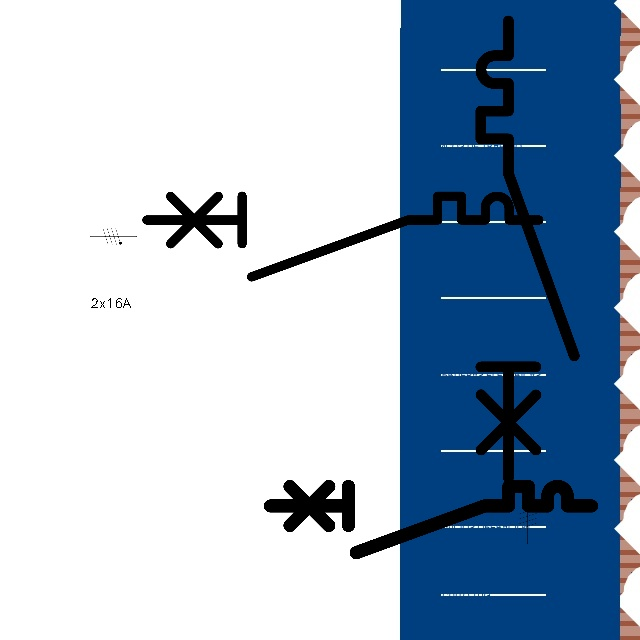interruptor_termomagnetico: (469, 9, 586, 489), (136, 186, 548, 287), (262, 478, 600, 561)
